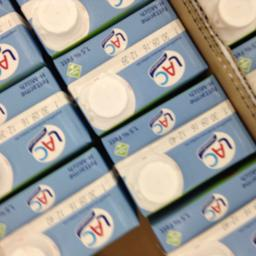milk: (79, 76, 255, 214), (52, 4, 202, 122), (0, 150, 136, 255), (0, 65, 97, 191), (145, 156, 255, 252)
